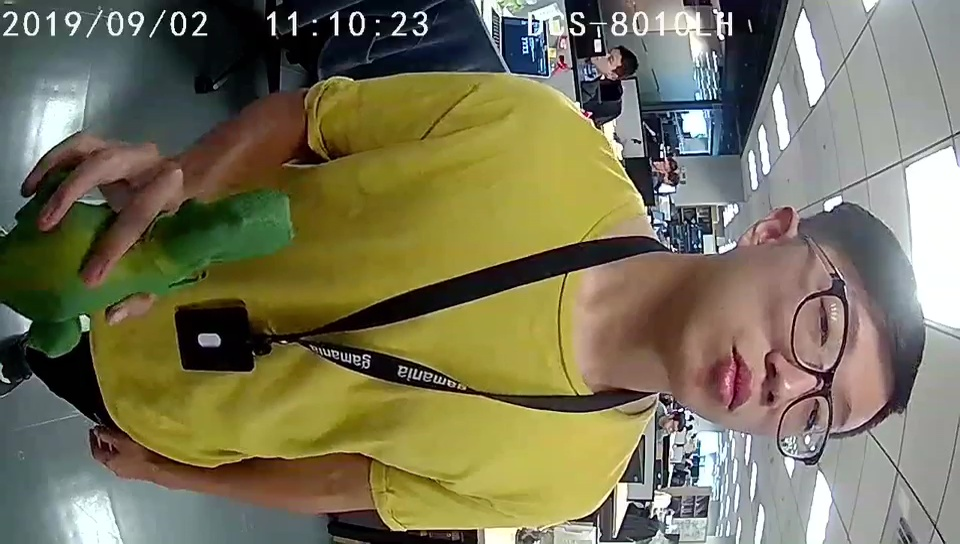rex: (18, 189, 294, 359)
